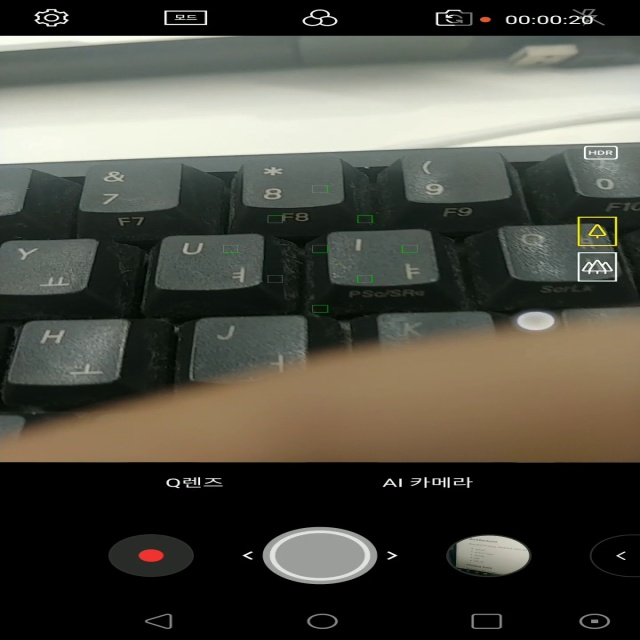Cursor: (513, 310, 558, 332)
